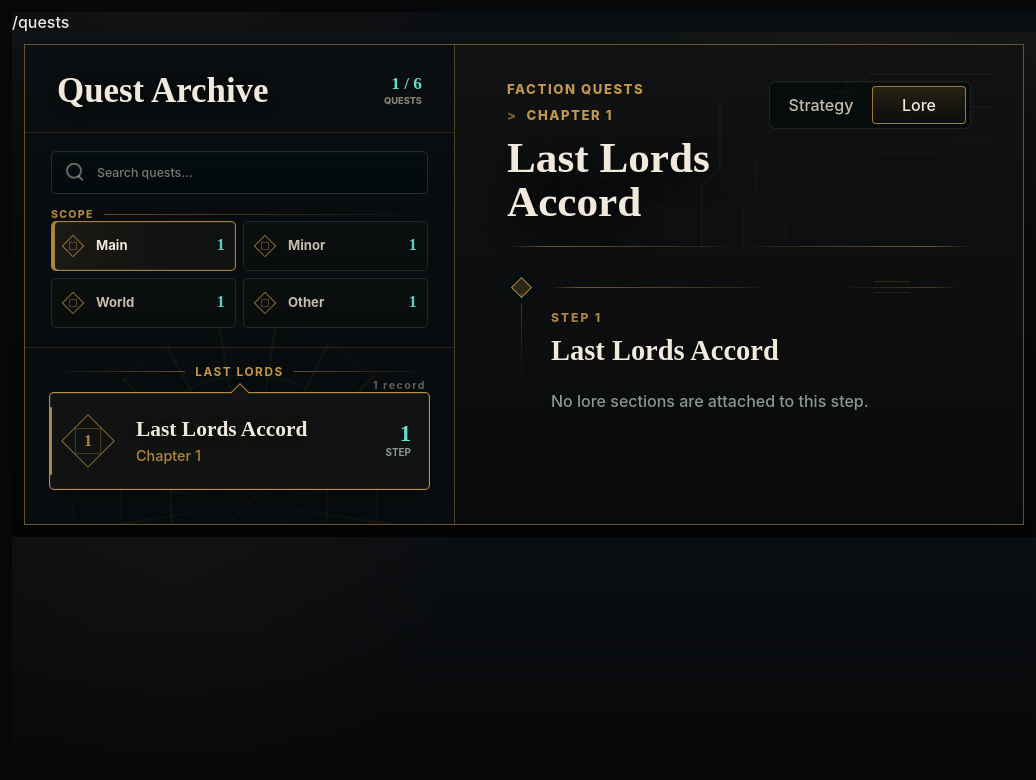
it: QuestExplorerPage filtering, projection, and rail navigation › uses the global faction context for faction quests while keeping world quests accessible
Expected: the heading "Last Lords Accord" is shown, [507,136,739,225]
Click the radio button with aria-label "World Quests".
click(144, 303)  # box [51,278,236,328]
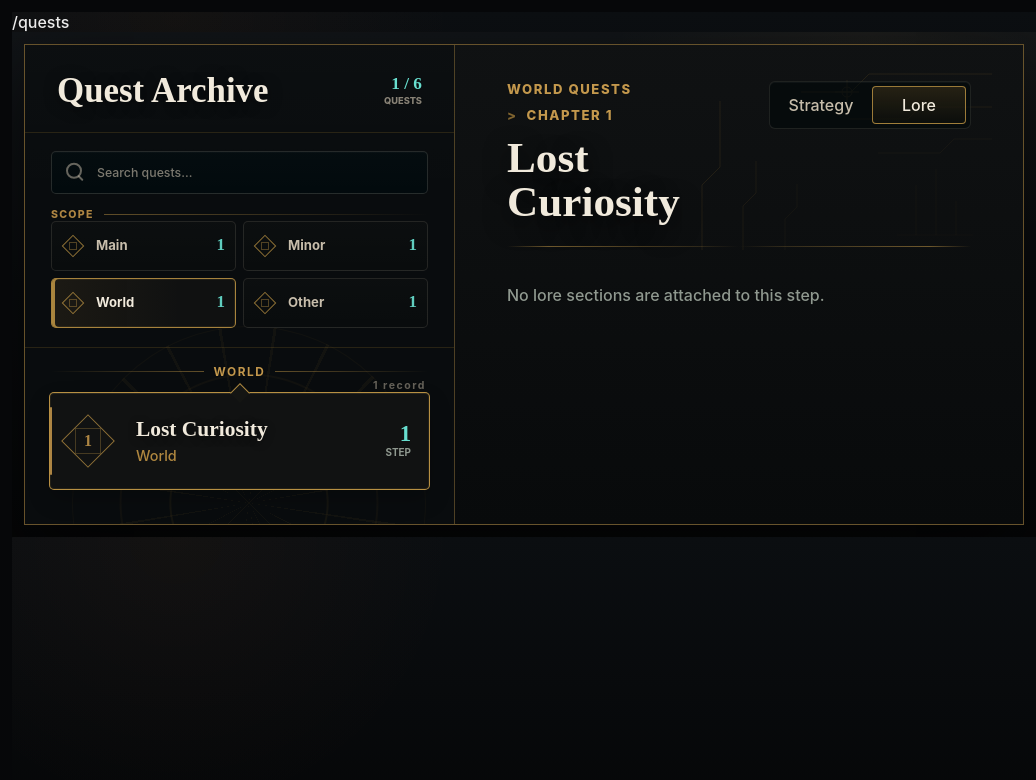
Expected: the heading "Lost Curiosity" is shown, [507,134,680,226]
